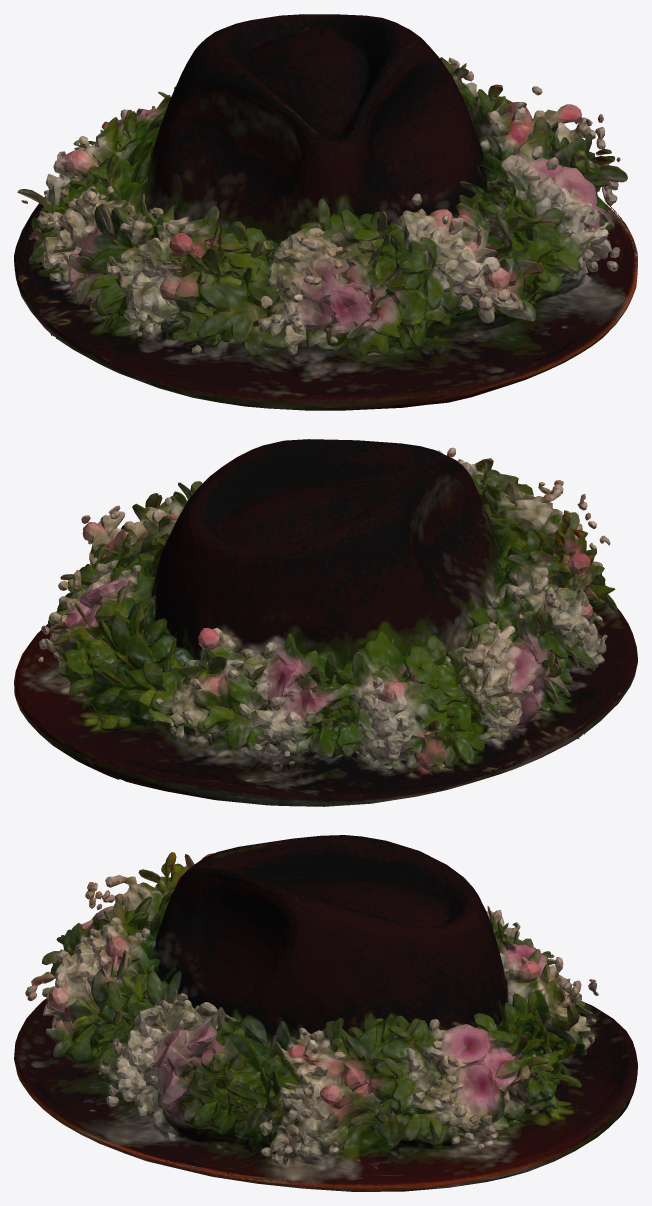
3 views of the same model, one above another, from view 1: azimuth 30°, elevation 25°; view 2: azimuth 150°, elevation 25°; view 3: azimuth 270°, elevation 25° (orthographic). The views are drawn at different scales.
Parts seen in each view (by area): view 1: Blumenkranz_Luisa_54k_2k; view 2: Blumenkranz_Luisa_54k_2k; view 3: Blumenkranz_Luisa_54k_2k.
Part boxes in pixels (<box>): Blumenkranz_Luisa_54k_2k: <box>14,14,637,410</box>; Blumenkranz_Luisa_54k_2k: <box>14,439,637,806</box>; Blumenkranz_Luisa_54k_2k: <box>14,835,637,1191</box>.
Size of the model in its own units: 0.3144 by 0.1258 by 0.3381.
1 material, 1 textured.
